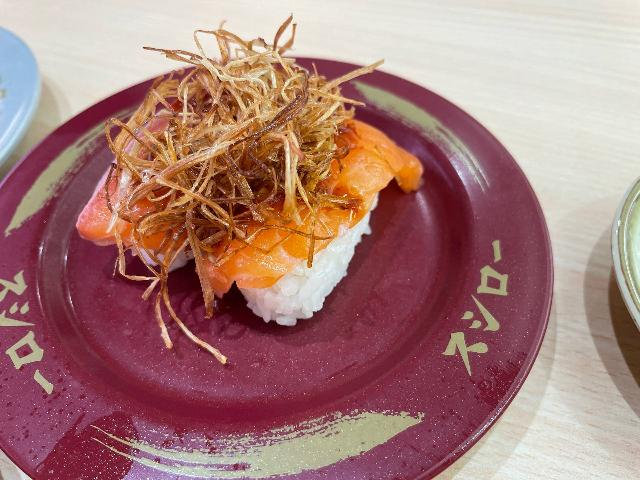janred: (18, 74, 503, 480)
janwhite: (0, 23, 47, 143)
